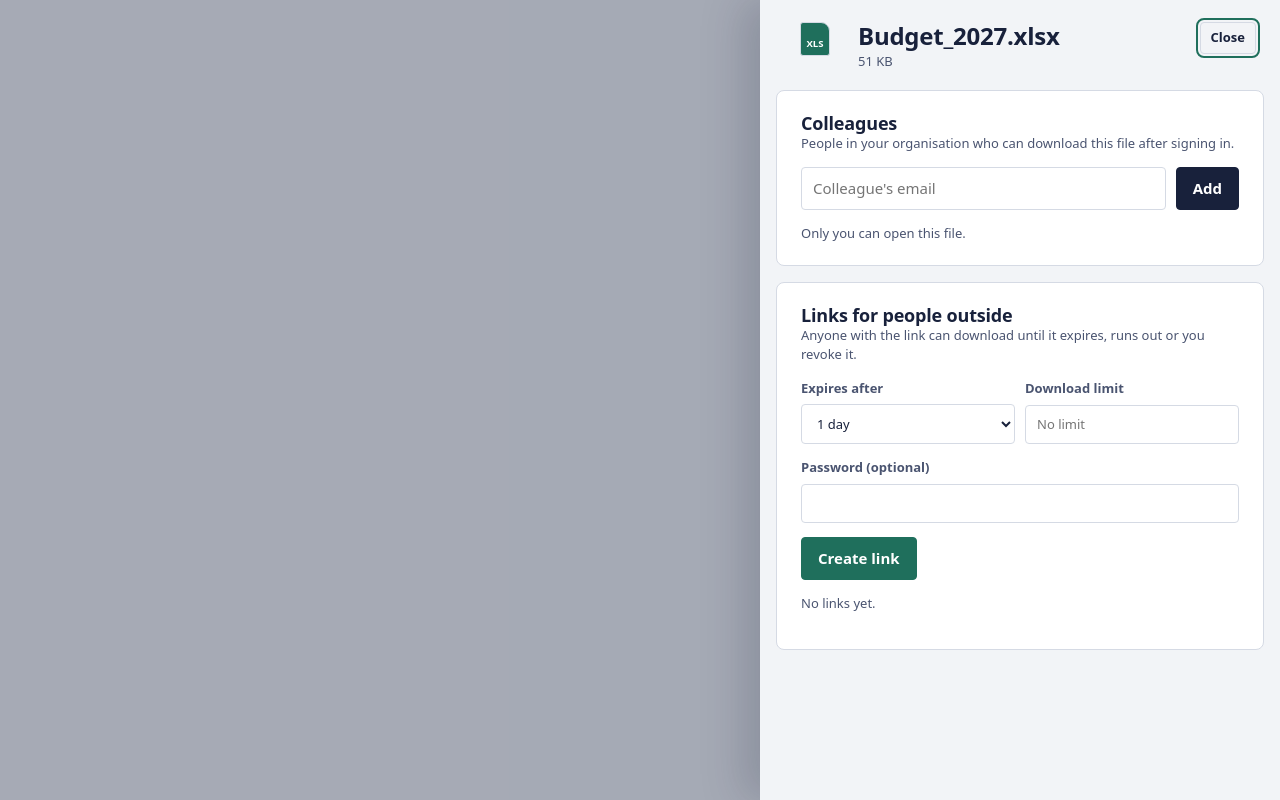
it: sharing › sends the CSRF token and shows a new link exactly once
Expected: the text "No links yet." is shown, [801, 594, 876, 612]
Type "3" into the number field labelled "Download limit" at (1132, 425), box [1025, 405, 1239, 444]
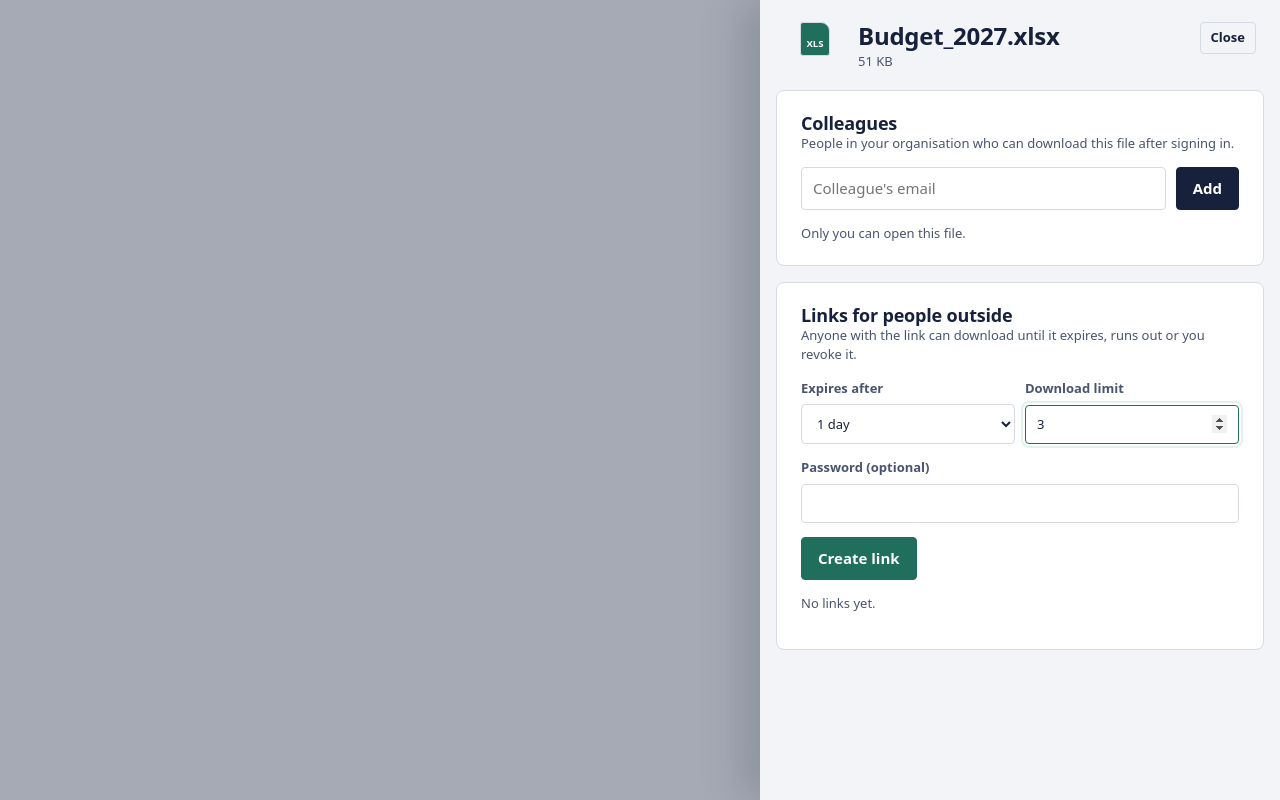
Type "tchad2026" into the password field labelled "Password (optional)" at (1020, 504), box [801, 484, 1239, 523]
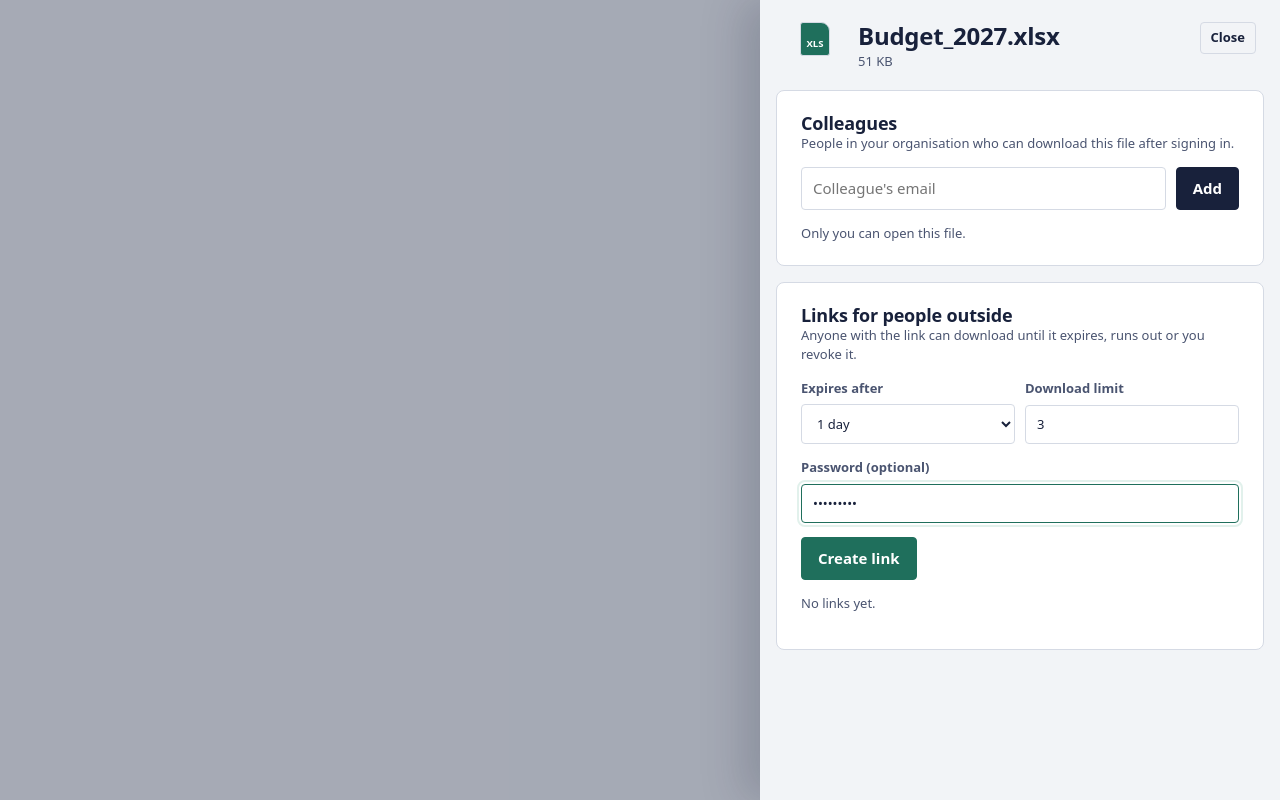
Click the button "Create link" at (859, 559), box [801, 537, 917, 580]
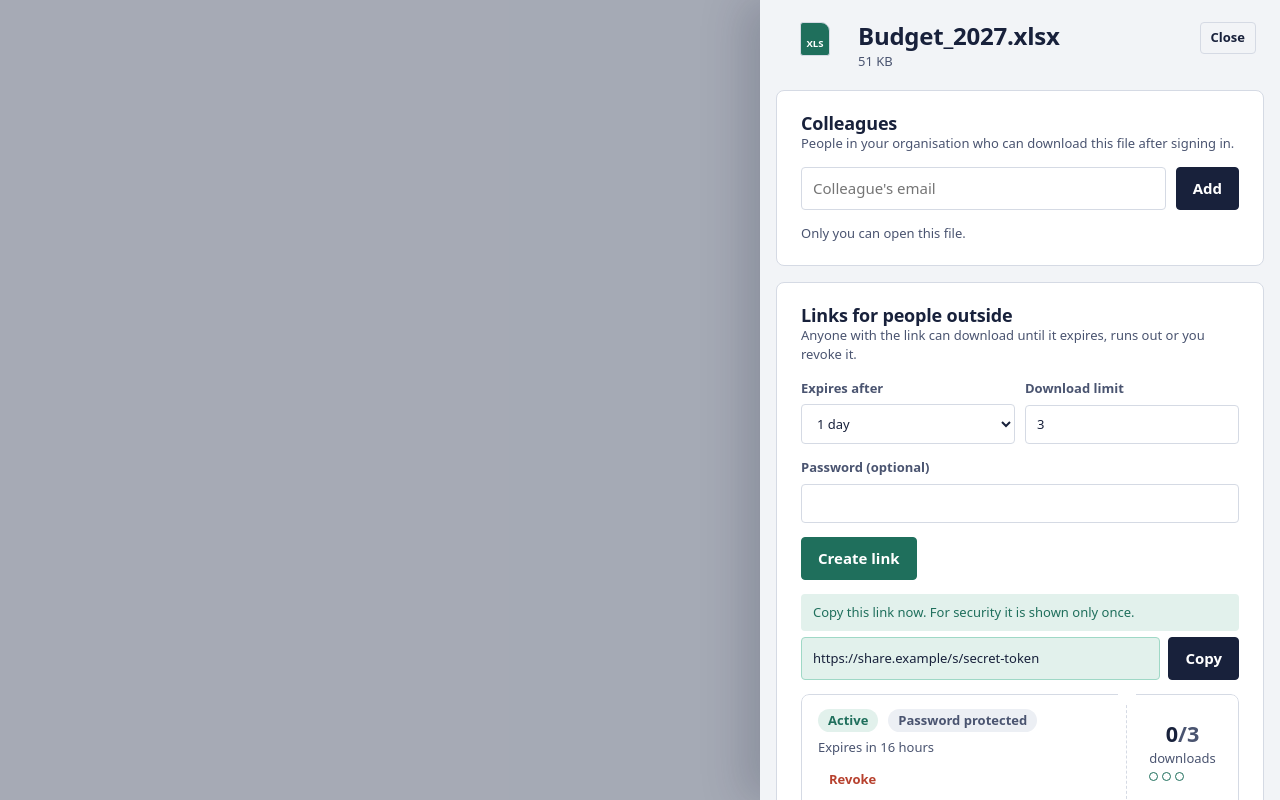
Result: the field showing "https://share.example/s/secret-token" is shown at [801, 637, 1160, 680]
Result: the text "0" is shown at [1166, 719, 1178, 748]
